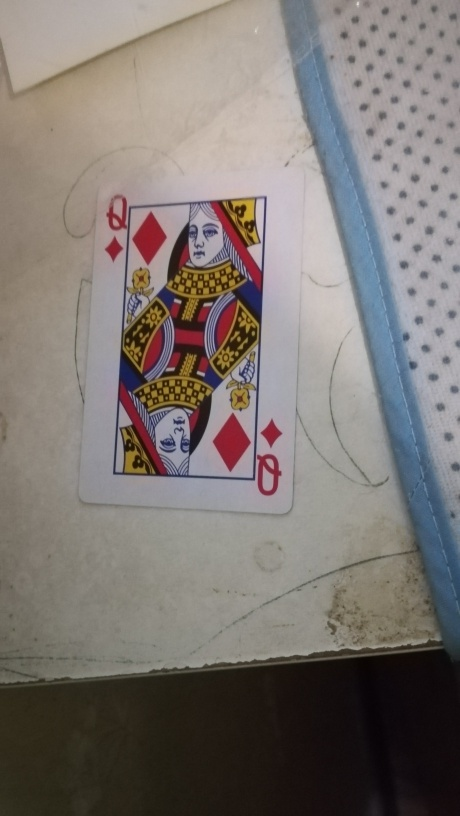fk q: (77, 176, 303, 515)
